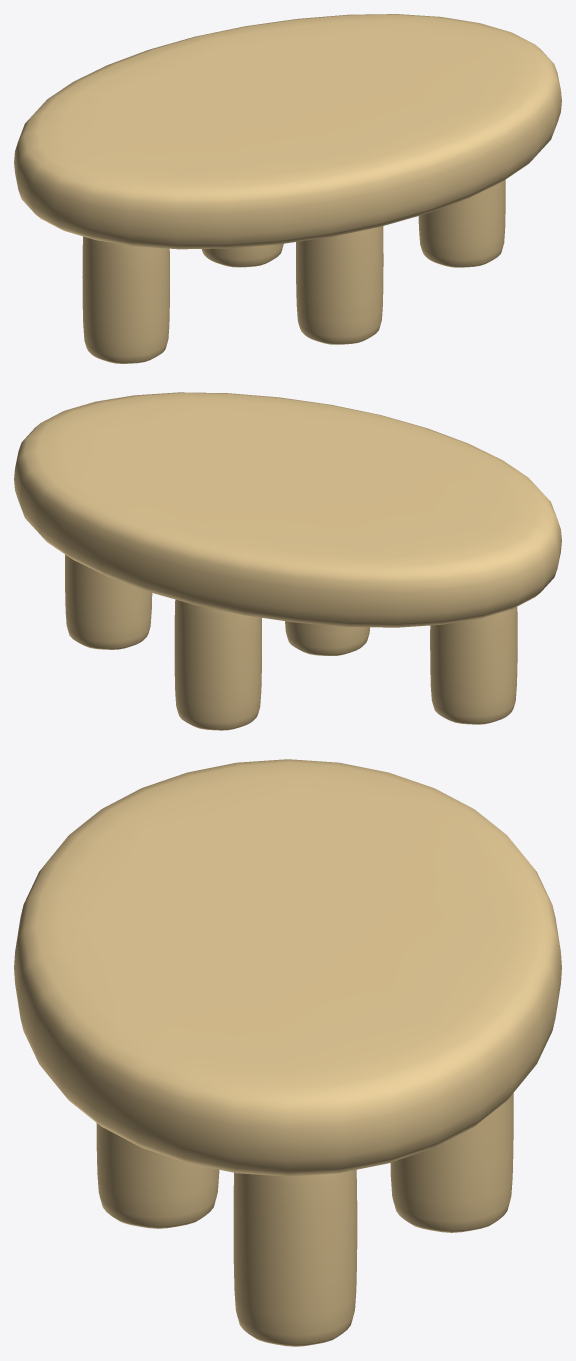
Rendered from chair05.fbx.
3 renders of one model, top to bottom at view 1: azimuth 30°, elevation 25°; view 2: azimuth 150°, elevation 25°; view 3: azimuth 270°, elevation 25°, orthographic. The views are drawn at different scales.
Visible parts, largest first — view 1: Circle, Circle.001; view 2: Circle, Circle.001; view 3: Circle, Circle.001.
Boxes of the visible parts, x1=… form: Circle: x1=14, y1=14, x2=561, y2=249; Circle.001: x1=82, y1=180, x2=505, y2=363; Circle: x1=14, y1=392, x2=561, y2=627; Circle.001: x1=65, y1=554, x2=517, y2=730; Circle: x1=14, y1=759, x2=561, y2=1176; Circle.001: x1=96, y1=1093, x2=513, y2=1346.
Size of the model in its own units: 252 by 93.18 by 164.
